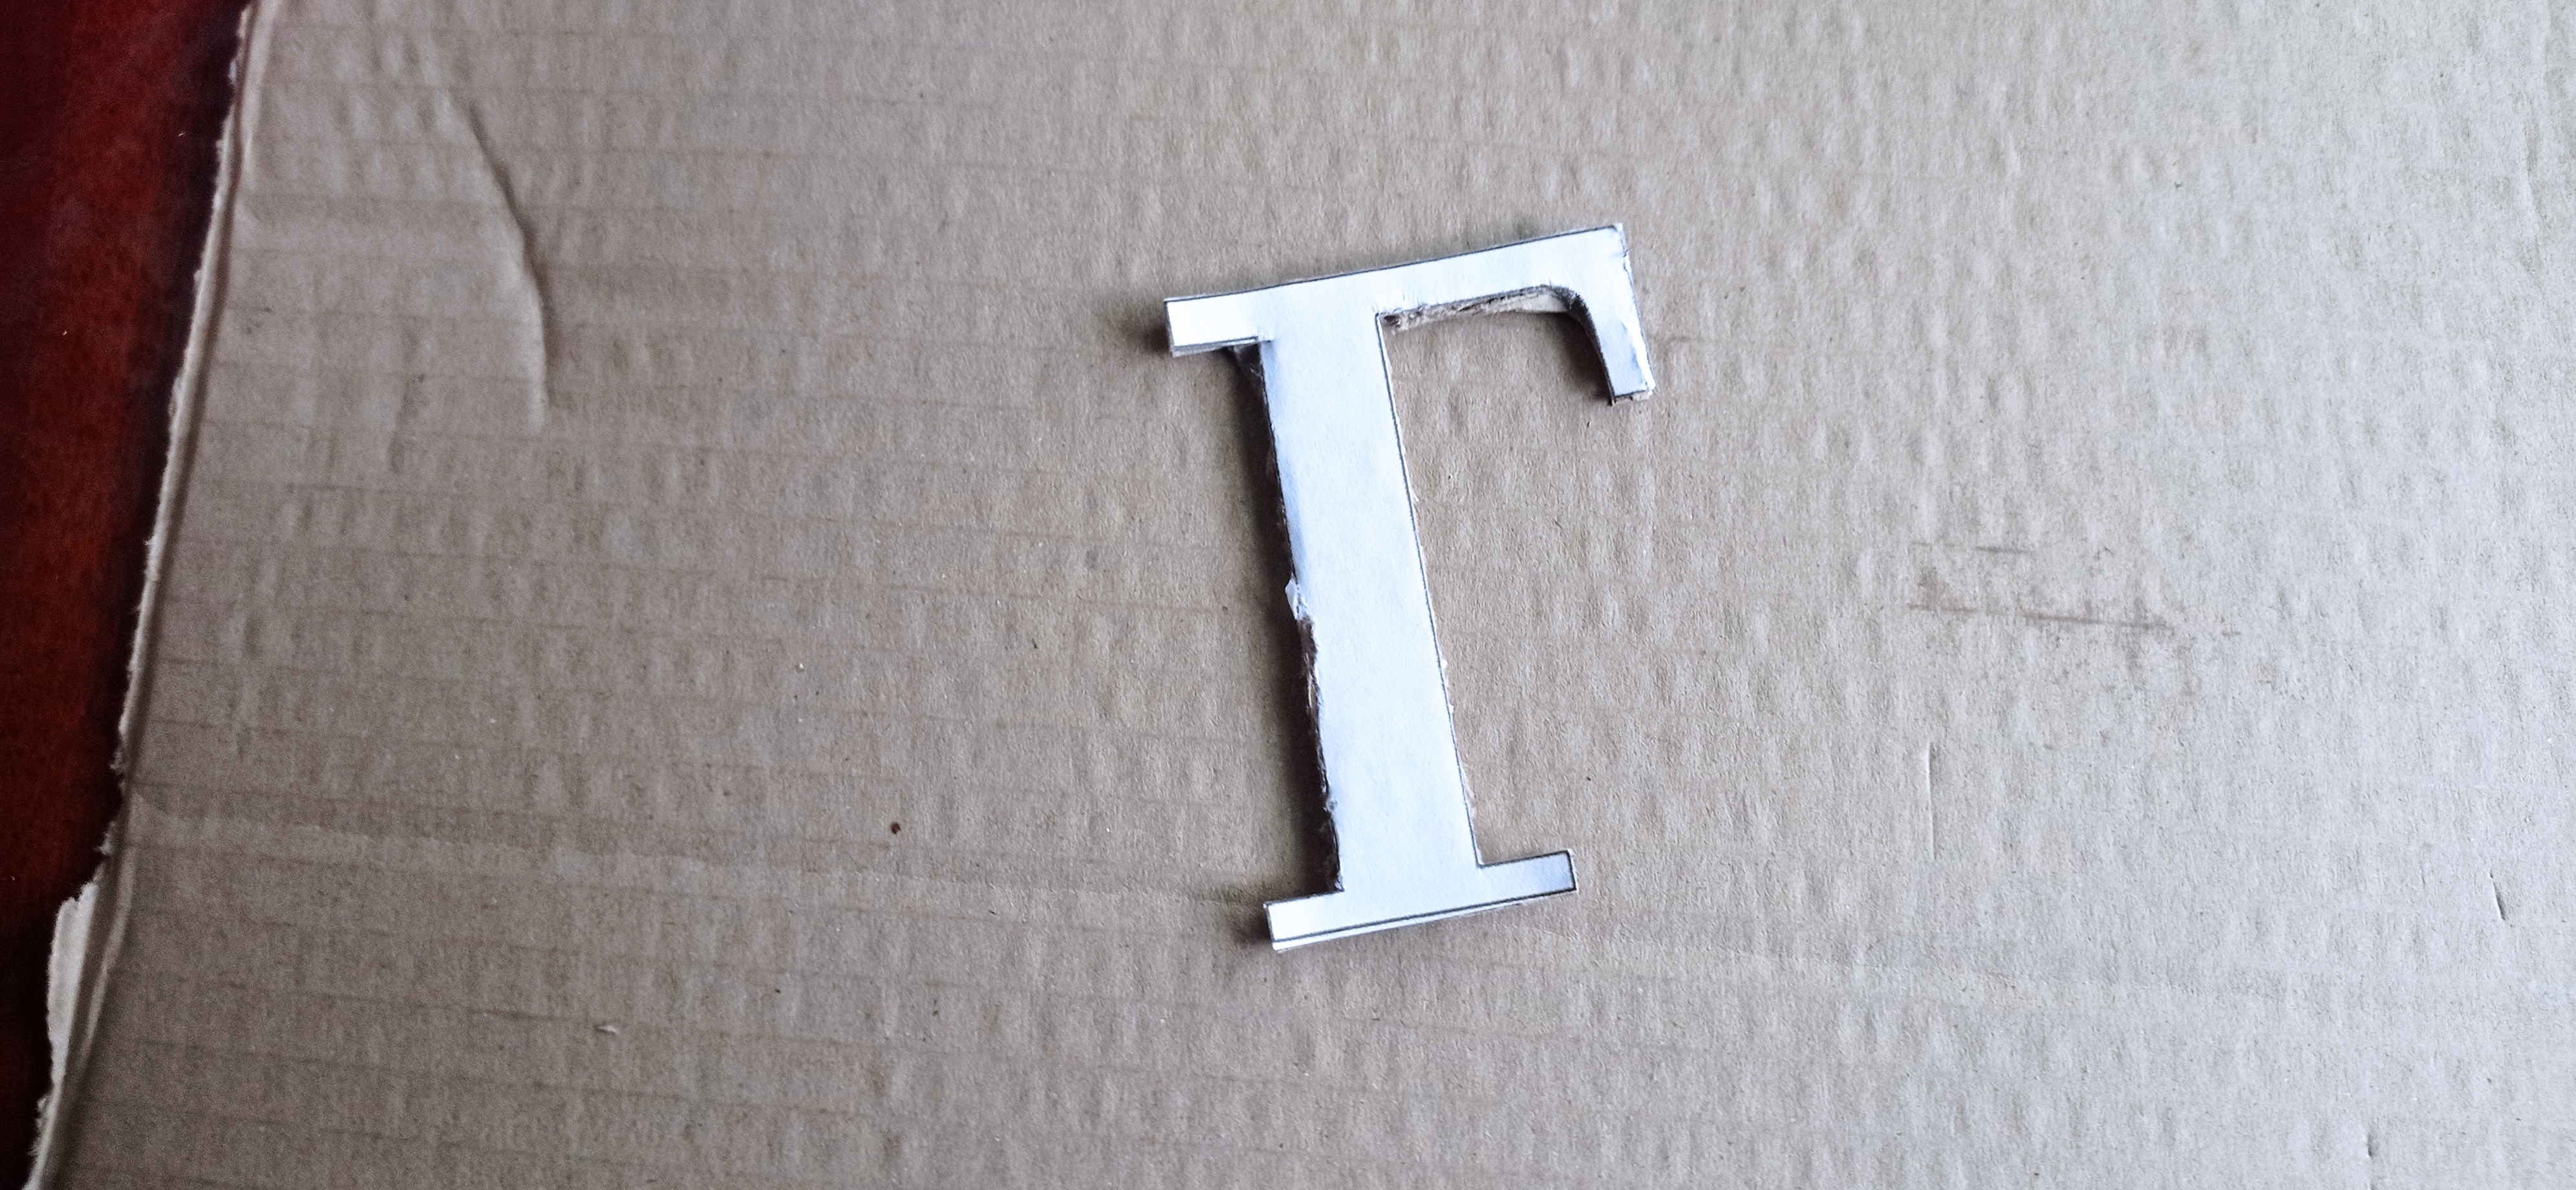g: (1163, 222, 1661, 965)
